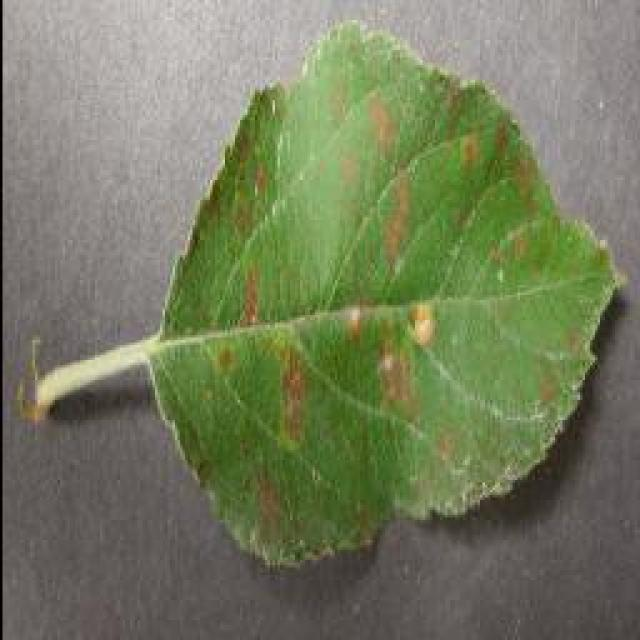apple cedar apple rust: (17, 18, 625, 572)
